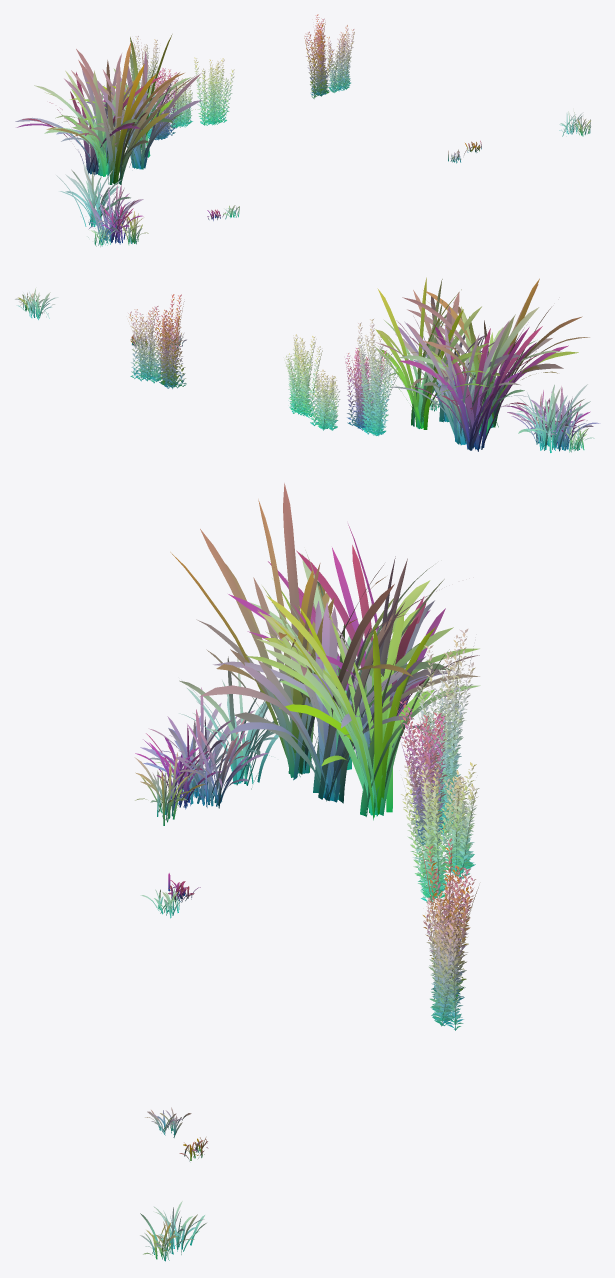
File: plants.glb
3 renders of one model, top to bottom at view 1: azimuth 30°, elevation 25°; view 2: azimuth 150°, elevation 25°; view 3: azimuth 270°, elevation 25°, orthographic. The views are drawn at different scales.
Parts seen in each view (by area): view 1: plants; view 2: plants; view 3: plants.
Part boxes in pixels (x1=…): plants: x1=15, y1=14, x2=590, y2=246; plants: x1=15, y1=277, x2=600, y2=452; plants: x1=134, y1=483, x2=480, y2=1261.
Size of the model in its own units: 2.96 by 0.8339 by 0.8667.
